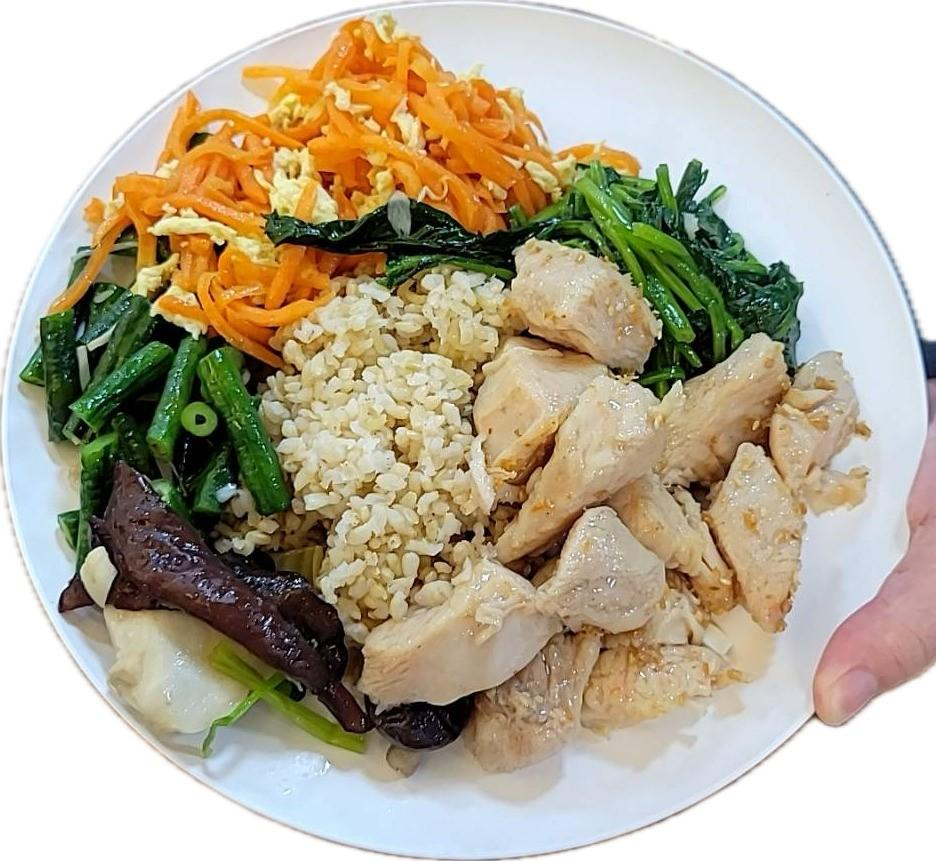big fried chicken leg: (0, 0, 936, 861)
box: (264, 260, 508, 609)
braised fish fillet: (99, 20, 570, 350), (262, 158, 808, 389), (64, 472, 371, 747), (18, 288, 295, 542)
braised pork: (354, 232, 875, 765)
